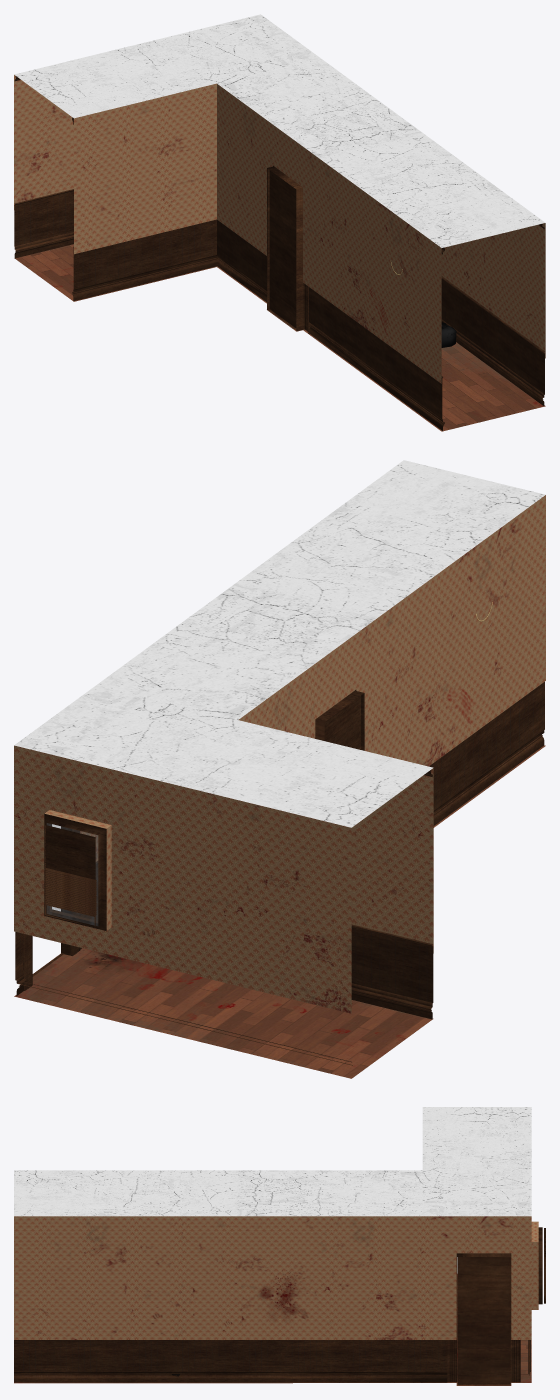
Rendered from corridor.glb.
The picture shows the model from 3 angles, top to bottom: view 1: azimuth 30°, elevation 25°; view 2: azimuth 150°, elevation 25°; view 3: azimuth 270°, elevation 25°; orthographic projection. The views are drawn at different scales.
Parts seen in each view (by area): view 1: murs, murs.001, Tablier_moulures, Sol, Porte_G, BP_G; view 2: murs, murs.001, Sol, Tablier_moulures, Volet, Fenetre, Porte_G, BP_D; view 3: murs, murs.001, Tablier_moulures, P_D, BP_D, Sol, Fenetre.
Part boxes in pixels (bbox=[...]): murs: bbox=[14, 75, 545, 383]; murs.001: bbox=[14, 14, 545, 247]; Tablier_moulures: bbox=[14, 76, 544, 430]; Sol: bbox=[15, 244, 545, 431]; Porte_G: bbox=[267, 169, 296, 329]; BP_G: bbox=[267, 165, 310, 333]; murs: bbox=[14, 495, 545, 1013]; murs.001: bbox=[14, 460, 545, 827]; Sol: bbox=[14, 745, 545, 1078]; Tablier_moulures: bbox=[15, 682, 544, 1065]; Volet: bbox=[44, 825, 96, 927]; Fenetre: bbox=[44, 813, 106, 930]; Porte_G: bbox=[324, 694, 363, 750]; BP_D: bbox=[23, 826, 80, 990]; murs: bbox=[14, 1216, 538, 1339]; murs.001: bbox=[14, 1107, 531, 1216]; Tablier_moulures: bbox=[14, 1340, 530, 1382]; P_D: bbox=[457, 1257, 510, 1385]; BP_D: bbox=[447, 1253, 520, 1382]; Sol: bbox=[14, 1274, 531, 1385]; Fenetre: bbox=[538, 1227, 542, 1304].
Bounding box in the file's own units: 3.9 × 2.78 × 7.81.
10 materials, 10 textured.
